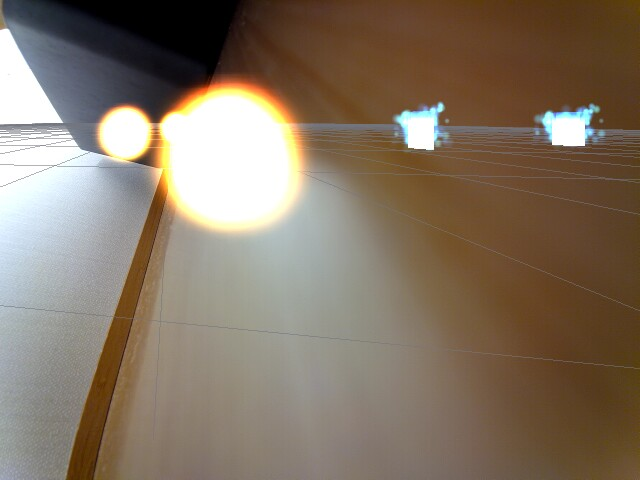firebig: (184, 65, 308, 246)
